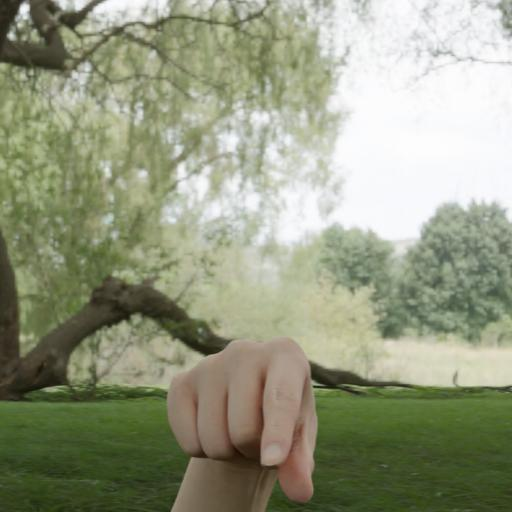Q: (155, 331, 331, 512)
